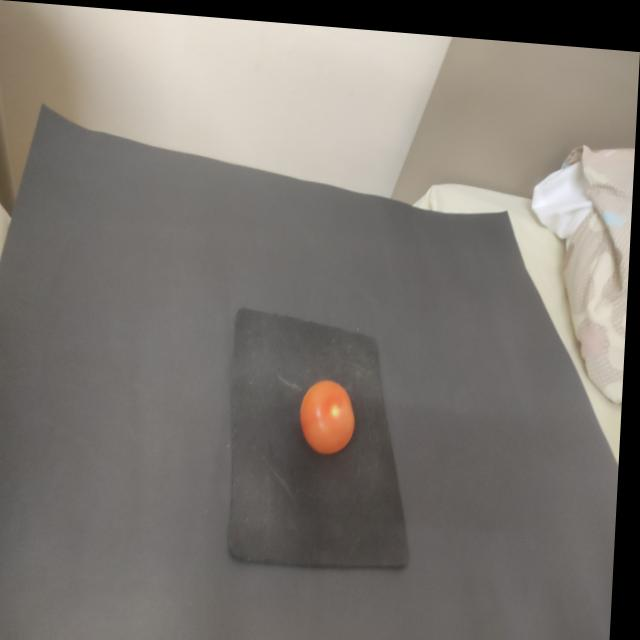sari: (298, 356, 369, 465)
